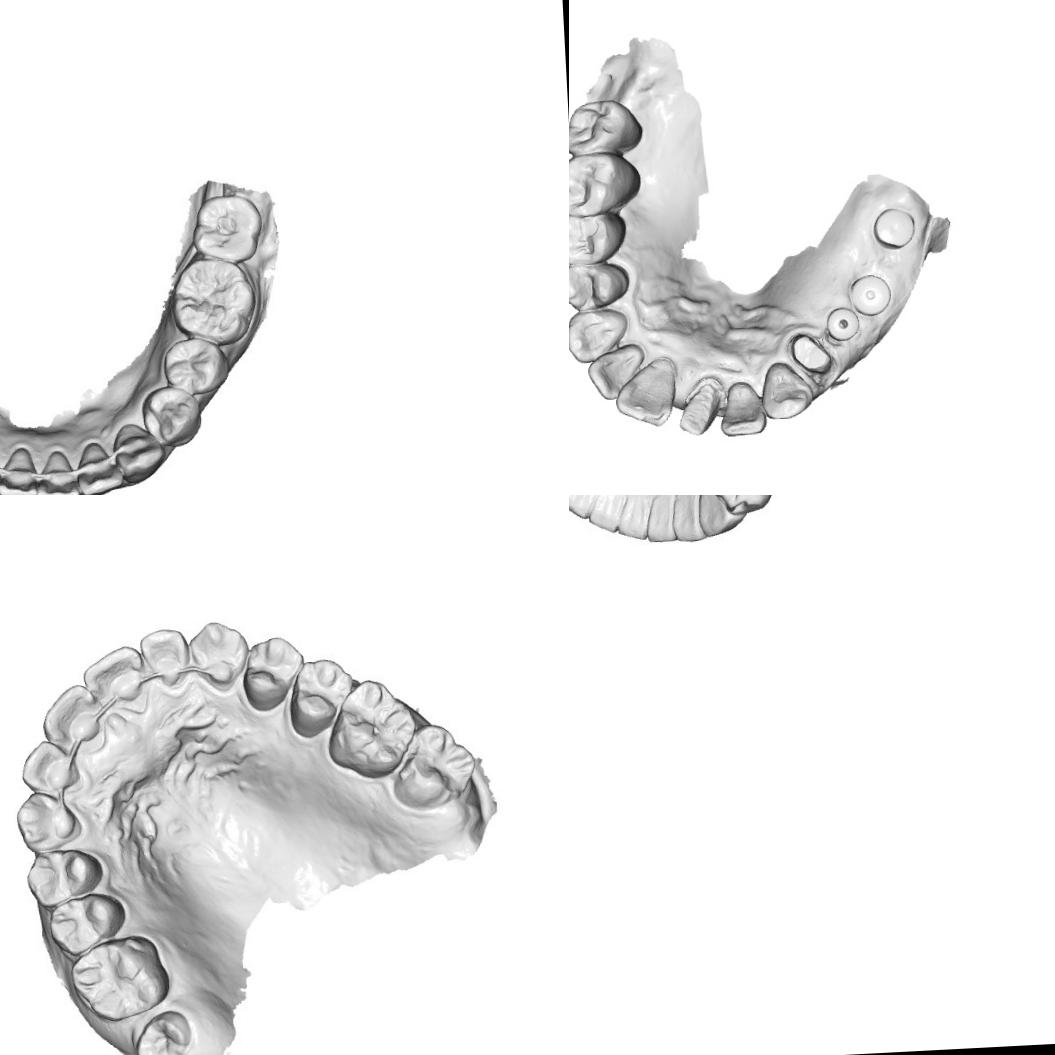canine: (191, 617, 250, 686), (16, 793, 83, 852), (757, 358, 815, 422), (569, 307, 629, 363), (111, 419, 164, 480), (696, 495, 750, 538), (569, 495, 610, 521)
crown: (675, 382, 718, 438), (789, 329, 837, 377)
implant: (872, 206, 916, 249), (848, 273, 892, 316), (825, 304, 862, 340)
incisor: (611, 354, 676, 432), (42, 685, 109, 747), (83, 644, 150, 705), (584, 342, 647, 404), (717, 376, 767, 438), (18, 740, 80, 790), (140, 627, 190, 688), (73, 442, 125, 495), (31, 445, 83, 495), (0, 439, 44, 495), (668, 495, 706, 543), (642, 495, 678, 545), (584, 495, 628, 535), (612, 495, 649, 542)
molar: (66, 934, 168, 1023), (329, 676, 421, 774), (396, 720, 481, 811), (168, 255, 254, 342), (188, 191, 262, 263), (569, 148, 647, 216), (569, 96, 645, 157)
premolar: (288, 654, 355, 738), (28, 839, 104, 911), (47, 891, 125, 958), (241, 632, 303, 712), (160, 333, 229, 398), (136, 384, 203, 446), (569, 207, 631, 267), (569, 257, 633, 313), (711, 495, 778, 517)
